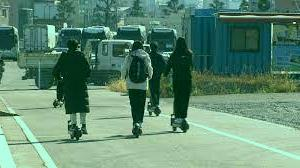nonhelmet: (59, 41, 91, 143), (166, 34, 195, 134), (122, 41, 151, 135), (146, 42, 166, 115), (52, 52, 70, 109)
